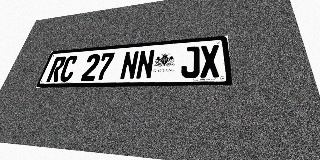2: (80, 54, 101, 81)
7: (94, 52, 115, 81)
C: (58, 55, 79, 82)
J: (181, 46, 200, 78)
N: (135, 49, 155, 80), (119, 51, 139, 80)
R: (46, 56, 67, 82)
X: (200, 45, 221, 78)
